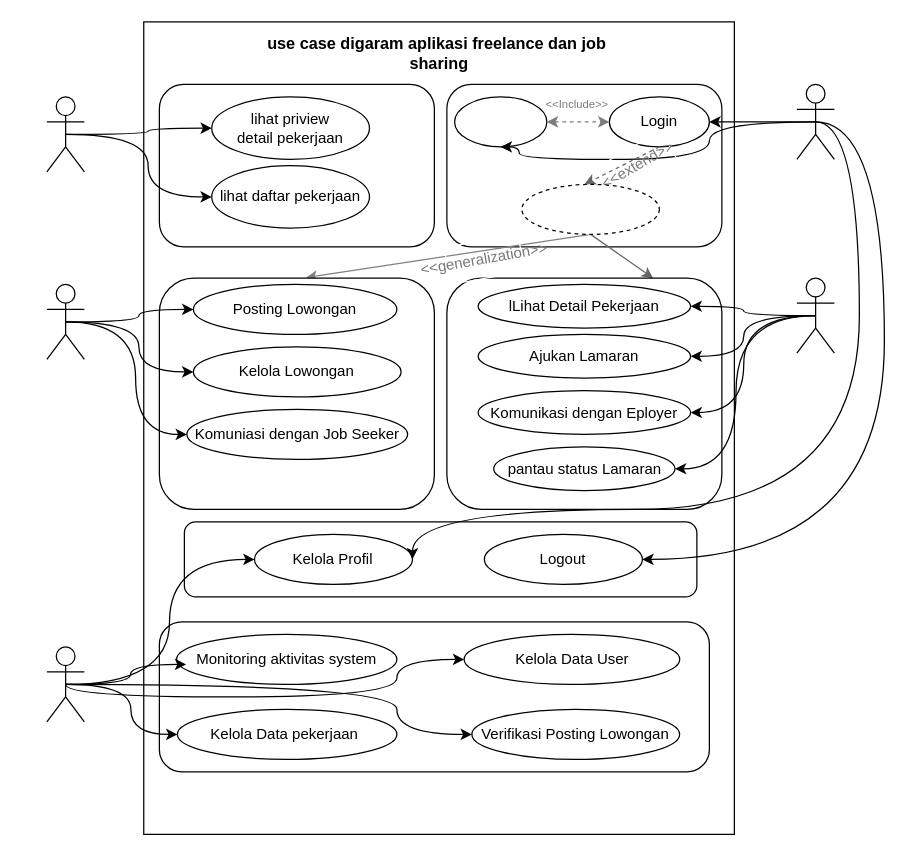
Some shapes in this 906 by 856 pixel diagram are drawn without their labels. The centre of each missing label's shape, as x and y in pixels:
"Administrator" goes at [65,684].
"Employer" goes at [65,321].
"Guest" goes at [65,134].
"Job Seeker" goes at [815,315].
"Pilih Role" goes at [590,208].
"registrasi" goes at [500,121].
"Users" goes at [815,121].
